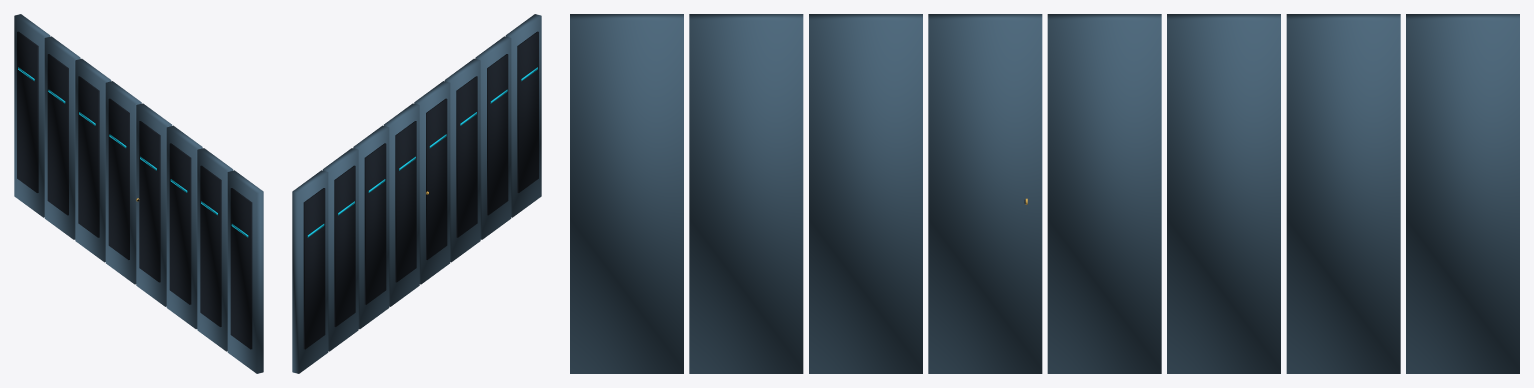
File: 03_L93_TitaniumWallModuleRight.fbx
3 renders of one model, left to right at view 1: azimuth 30°, elevation 25°; view 2: azimuth 150°, elevation 25°; view 3: azimuth 270°, elevation 25°, orthographic. The views are drawn at different scales.
Parts seen in each view (by area): view 1: L92_TitaniumWallModuleRight_Part_0001, L92_TitaniumWallModuleRight_Part_0000, L92_TitaniumWallModuleRight_Part_0002; view 2: L92_TitaniumWallModuleRight_Part_0001, L92_TitaniumWallModuleRight_Part_0000, L92_TitaniumWallModuleRight_Part_0002; view 3: L92_TitaniumWallModuleRight_Part_0000.
Boxes of the visible parts, <box> form: L92_TitaniumWallModuleRight_Part_0001: <box>17,31,252,349</box>; L92_TitaniumWallModuleRight_Part_0000: <box>14,14,263,373</box>; L92_TitaniumWallModuleRight_Part_0002: <box>18,67,248,237</box>; L92_TitaniumWallModuleRight_Part_0001: <box>303,31,538,349</box>; L92_TitaniumWallModuleRight_Part_0000: <box>292,14,541,373</box>; L92_TitaniumWallModuleRight_Part_0002: <box>307,67,537,237</box>; L92_TitaniumWallModuleRight_Part_0000: <box>570,14,1519,373</box>.
Bounding box in the file's own units: 67 × 800 × 1949.
